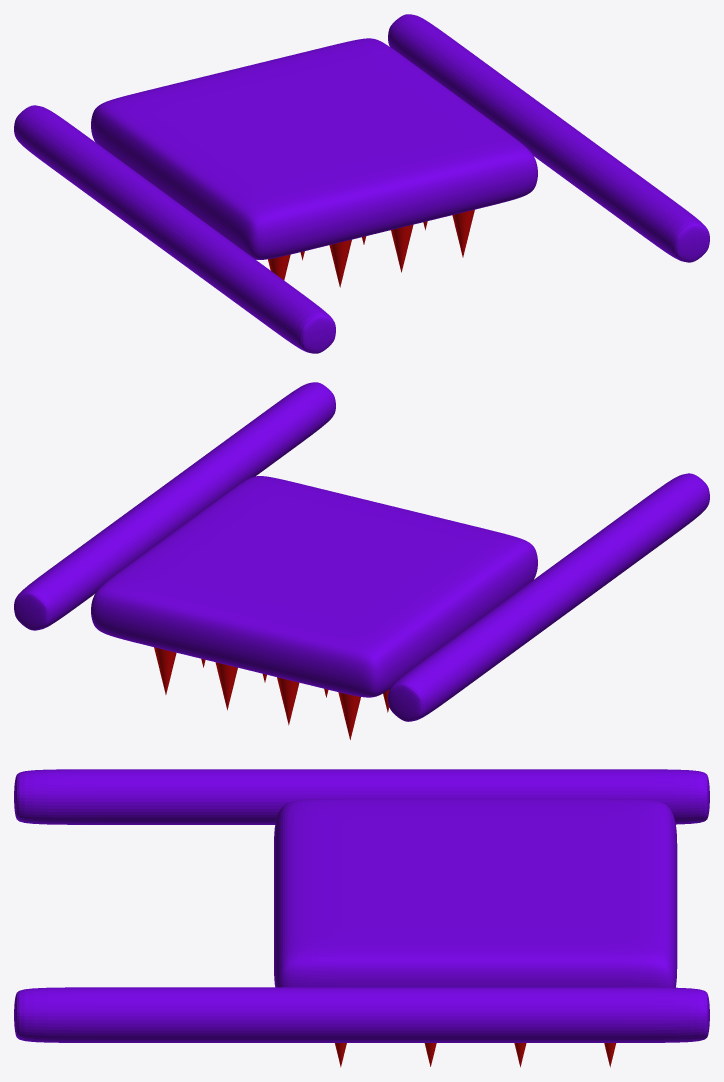
Rendered from Obstacle.fbx.
3 views of the same model, one above another, from view 1: azimuth 30°, elevation 25°; view 2: azimuth 150°, elevation 25°; view 3: azimuth 270°, elevation 25° (orthographic). The views are drawn at different scales.
Parts seen in each view (by area): view 1: Cone, Sutun; view 2: Cone, Sutun; view 3: Cone, Sutun.
Boxes of the visible parts, x1,y1,x2,y2 form: Cone: (91, 38, 537, 287); Sutun: (14, 14, 709, 353); Cone: (91, 476, 537, 739); Sutun: (14, 382, 709, 721); Cone: (274, 798, 677, 1067); Sutun: (14, 769, 709, 1042).
Bounding box in the file's own units: 0.4249 × 0.1143 × 0.517.
